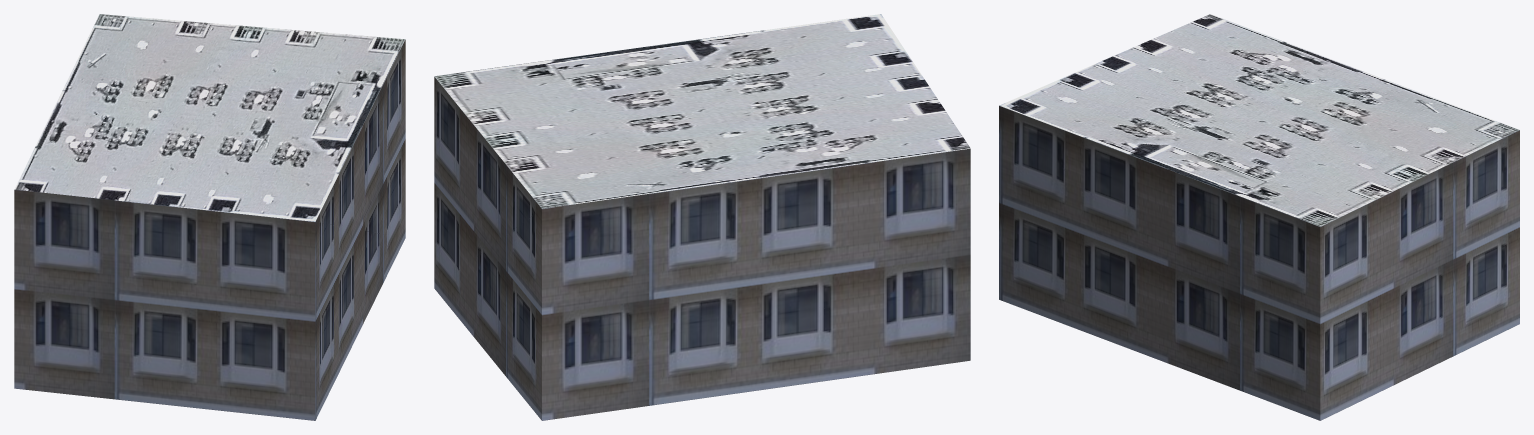
The model's file is ResTex__1389.fbx.
3 renders of one model, left to right at view 1: azimuth 30°, elevation 25°; view 2: azimuth 150°, elevation 25°; view 3: azimuth 270°, elevation 25°, orthographic. The views are drawn at different scales.
Parts seen in each view (by area): view 1: CityEngineMaterial_3_m, CityEngineMaterial_8_m; view 2: CityEngineMaterial_3_m, CityEngineMaterial_8_m; view 3: CityEngineMaterial_3_m, CityEngineMaterial_8_m.
Part boxes in pixels (bbox=[...]): CityEngineMaterial_3_m: bbox=[14, 39, 405, 420]; CityEngineMaterial_8_m: bbox=[14, 14, 405, 221]; CityEngineMaterial_3_m: bbox=[434, 77, 970, 420]; CityEngineMaterial_8_m: bbox=[434, 14, 970, 208]; CityEngineMaterial_3_m: bbox=[999, 105, 1519, 420]; CityEngineMaterial_8_m: bbox=[999, 14, 1519, 226].
Size of the model in its own units: 14.11 by 6 by 14.59.
Materials: 2 (2 with a texture image).
